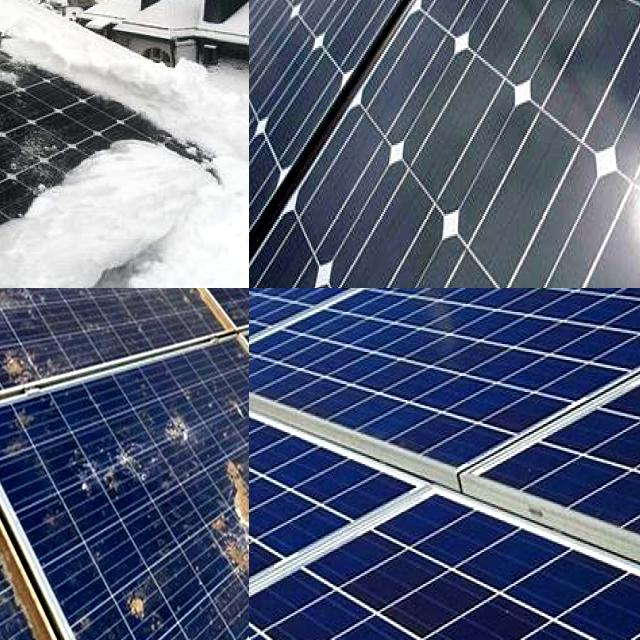bird: (100, 408, 191, 504), (210, 449, 249, 573), (0, 315, 53, 398), (108, 568, 169, 640), (0, 540, 35, 626), (0, 296, 20, 385), (0, 288, 43, 323), (62, 288, 113, 312), (0, 288, 25, 308)
crack: (249, 0, 640, 288), (249, 288, 640, 512), (249, 474, 640, 640), (249, 288, 430, 410), (263, 288, 640, 346)
panel: (0, 172, 243, 264), (71, 85, 212, 168), (0, 0, 71, 130), (32, 10, 142, 90), (0, 1, 72, 105), (0, 0, 49, 25)
